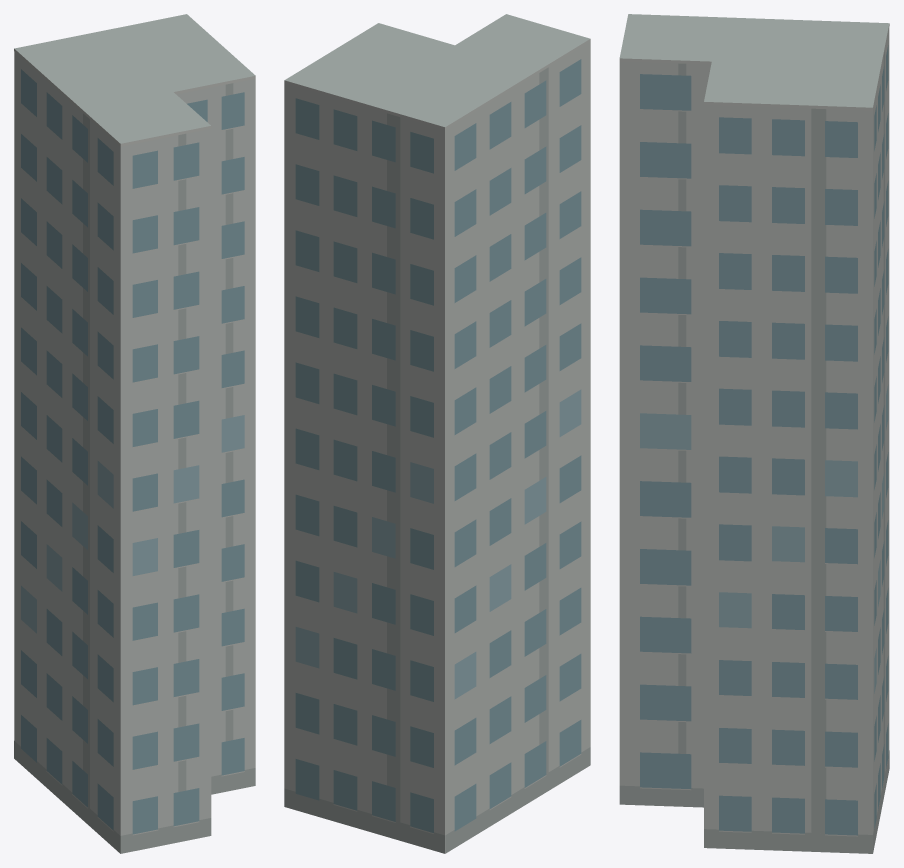
File: residential-cd52b44e-942c-497d-9ec2-e3d8df0e4c29.glb
The picture shows the model from 3 angles, left to right: view 1: azimuth 30°, elevation 25°; view 2: azimuth 150°, elevation 25°; view 3: azimuth 270°, elevation 25°; orthographic projection. The views are drawn at different scales.
Visible parts, largest first — view 1: residential-cd52b44e-942c-497d-9ec2-e3d8df0e4c29.tmp; view 2: residential-cd52b44e-942c-497d-9ec2-e3d8df0e4c29.tmp; view 3: residential-cd52b44e-942c-497d-9ec2-e3d8df0e4c29.tmp.
Part boxes in pixels (left/top/right/bottom): residential-cd52b44e-942c-497d-9ec2-e3d8df0e4c29.tmp: left=14, top=14, right=255, bottom=853; residential-cd52b44e-942c-497d-9ec2-e3d8df0e4c29.tmp: left=284, top=14, right=590, bottom=853; residential-cd52b44e-942c-497d-9ec2-e3d8df0e4c29.tmp: left=619, top=14, right=889, bottom=853.
Bounding box in the file's own units: 15.9 × 59 × 19.35.
